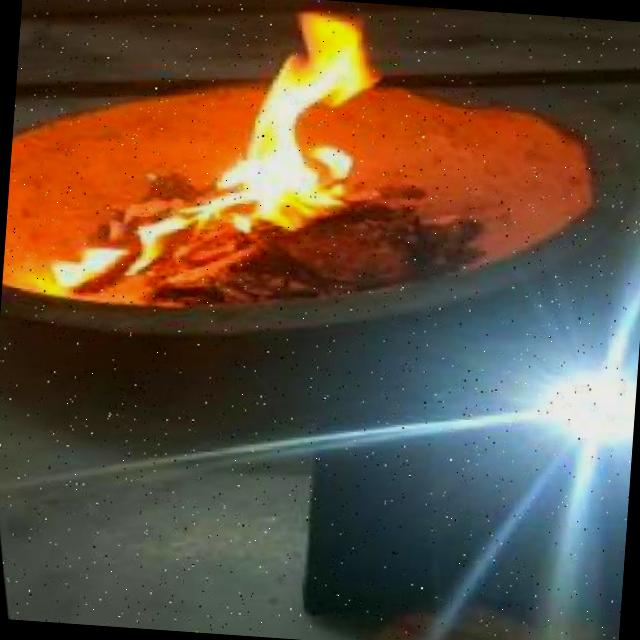fire: (2, 0, 429, 344)
